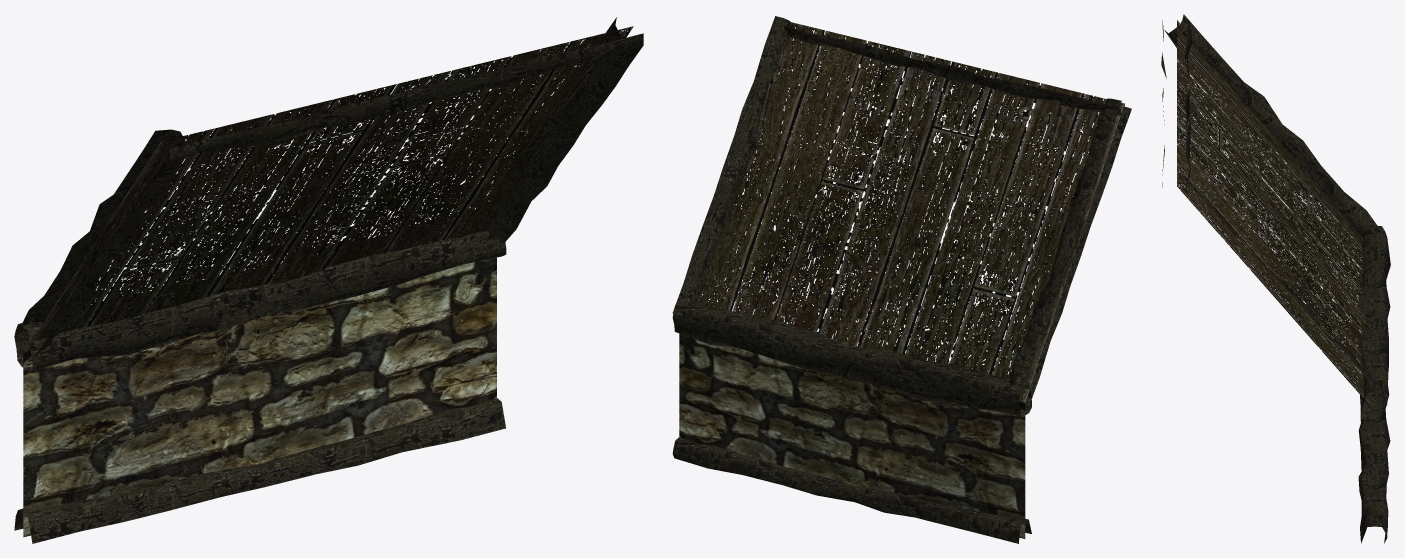
File: sloping.dae
The picture shows the model from 3 angles, left to right: view 1: azimuth 30°, elevation 25°; view 2: azimuth 150°, elevation 25°; view 3: azimuth 270°, elevation 25°; orthographic projection. The views are drawn at different scales.
Parts seen in each view (by area): view 1: pPlane2, pPlane3, polySurface12; view 2: pPlane3, polySurface12, pPlane2; view 3: pPlane3, polySurface12.
Part boxes in pixels (bbox=[...]): pPlane2: bbox=[23, 257, 496, 537]; pPlane3: bbox=[23, 26, 633, 352]; polySurface12: bbox=[14, 17, 643, 543]; pPlane3: bbox=[697, 22, 1124, 403]; polySurface12: bbox=[672, 16, 1131, 543]; pPlane2: bbox=[679, 333, 1025, 538]; pPlane3: bbox=[1177, 20, 1374, 410]; polySurface12: bbox=[1161, 14, 1390, 543].
Bounding box in the file's own units: 4 × 4.07 × 2.33.
